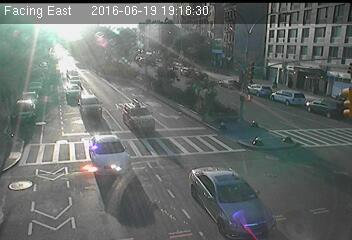neg: (128, 116, 157, 155), (300, 60, 329, 99), (170, 63, 197, 99), (52, 89, 79, 124), (284, 126, 310, 161), (81, 31, 107, 66), (152, 173, 177, 207), (274, 32, 299, 66), (13, 173, 36, 203), (93, 156, 116, 186), (129, 56, 151, 85), (203, 156, 224, 184), (182, 127, 202, 154), (53, 47, 72, 73), (63, 169, 82, 195), (231, 57, 249, 82), (194, 31, 212, 54), (286, 199, 303, 222), (252, 136, 268, 156), (32, 137, 44, 154), (260, 97, 272, 113)
